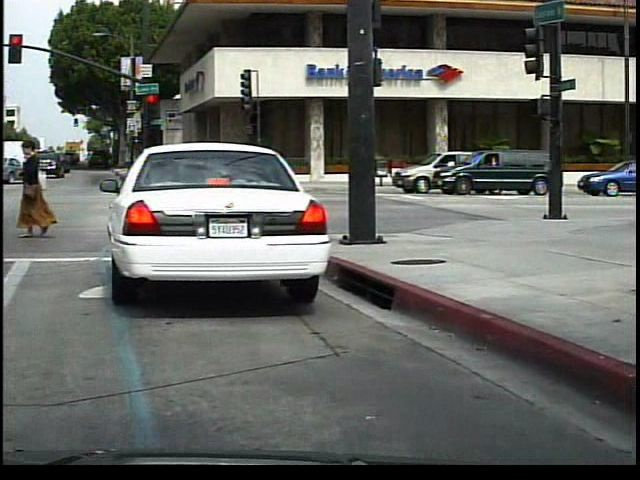person: (16, 136, 68, 242)
